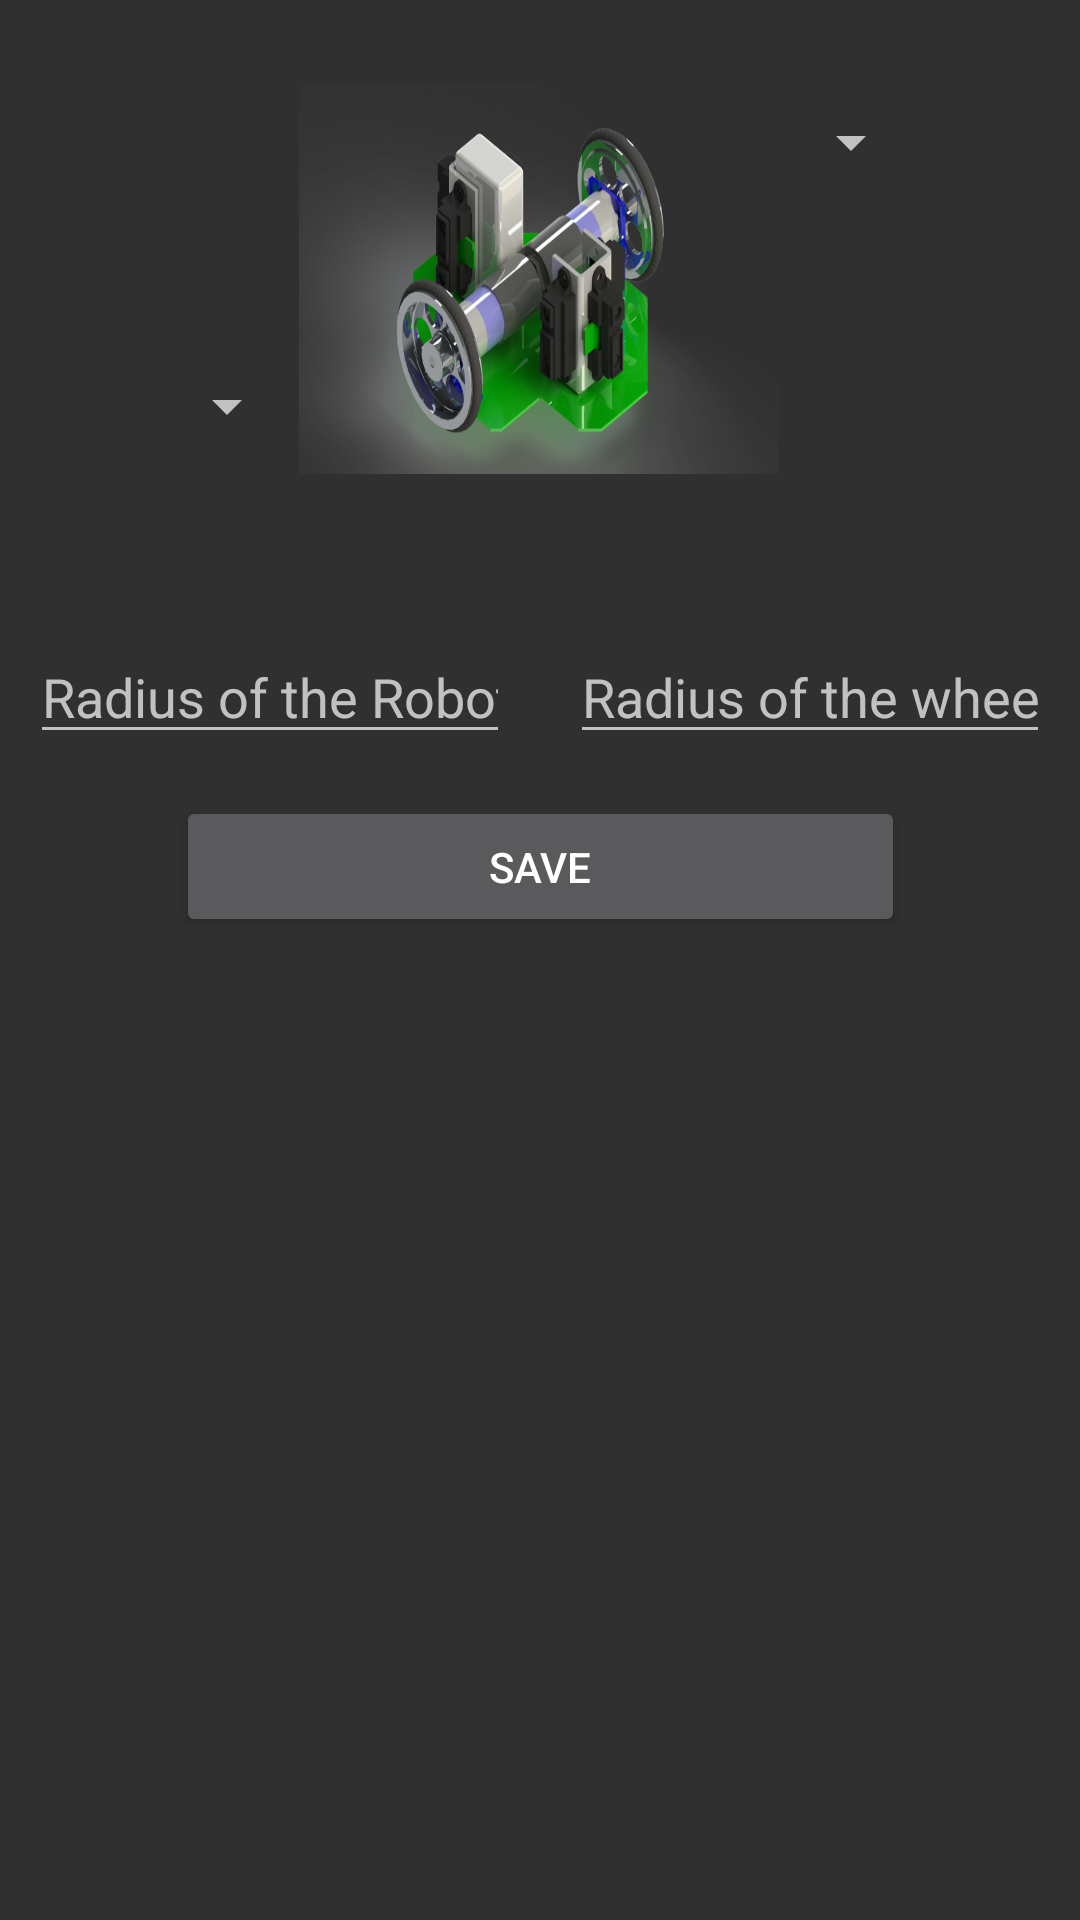

Locate icon controls on the screen. Image size 1080 × 1920, boxes as (x1, y1, x2, y2).
robot 2w: (331, 128, 668, 474)
